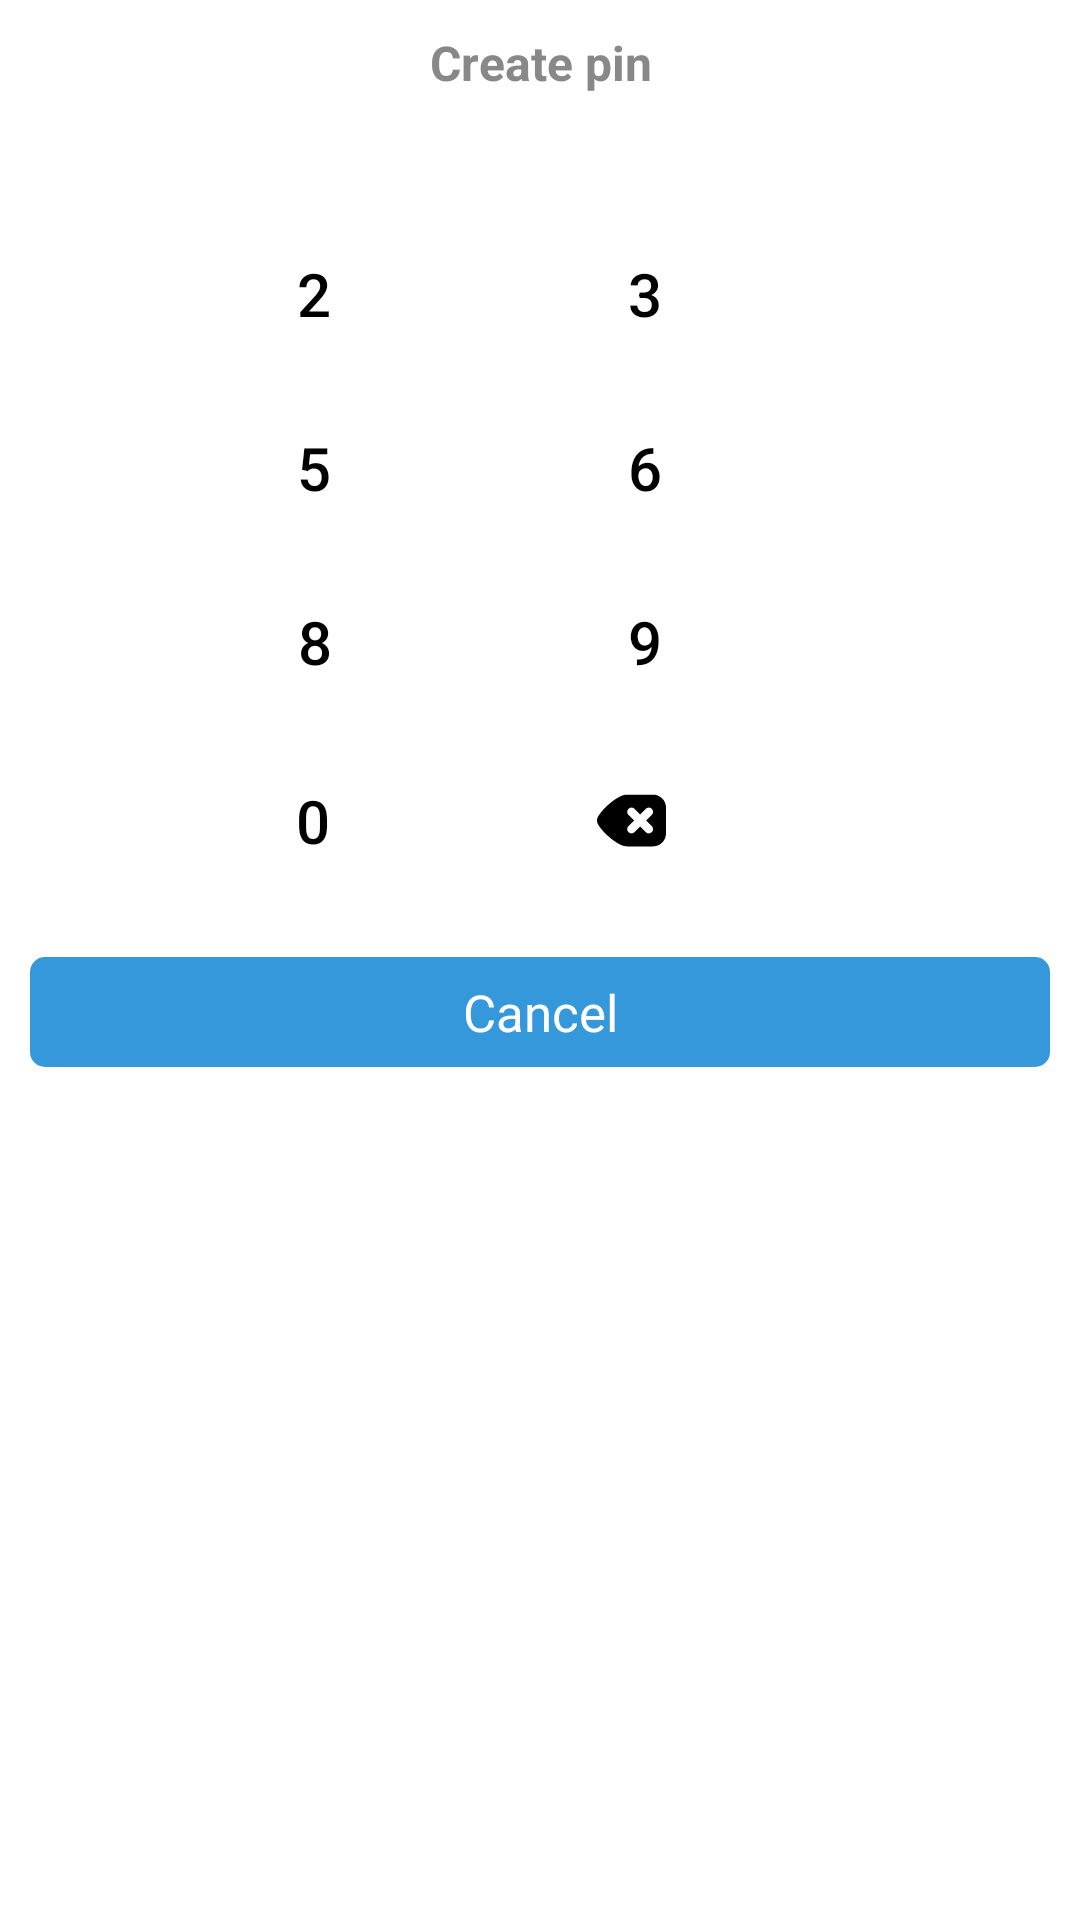

Screen size 1080 × 1920. Icon name, then its box in pixels as (x1, y1, x2, y2):
clear: (597, 794, 666, 847)
